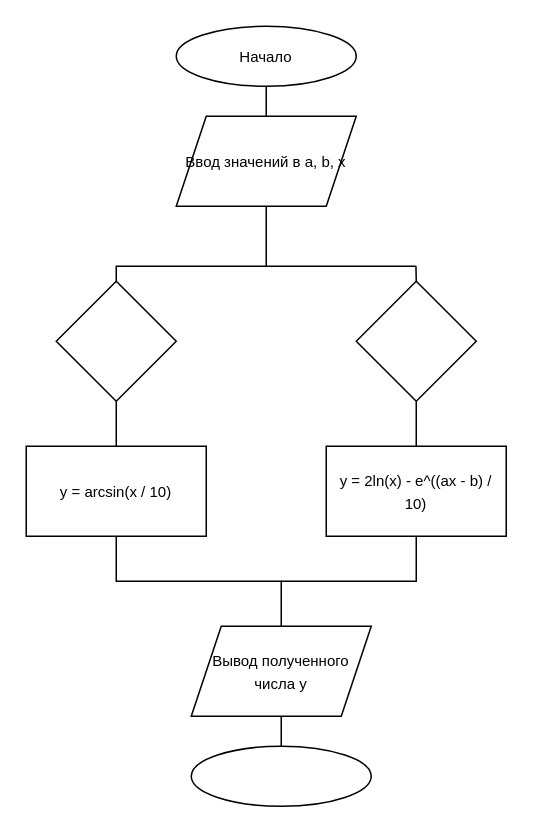
Some shapes in this 533 by 833 pixel diagram are drawn without their labels. The shapes that lost their labels are listed below. From the top down, each one's box as (x1, y1, x2, y2) in pixels, then its label:
(55, 280, 176, 401): 3a-b <= 0
(355, 280, 476, 401): 3a-b < 0
(190, 745, 371, 806): Конец
